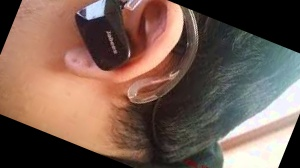earphone: (53, 0, 191, 107)
